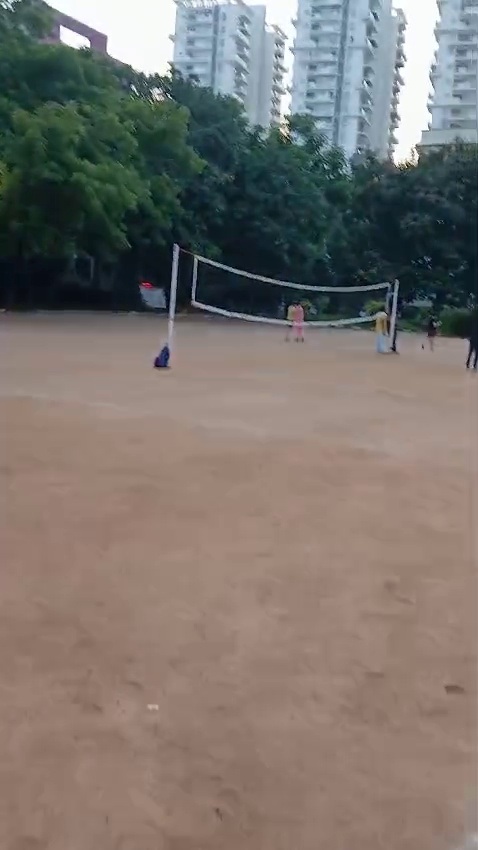bag: (148, 342, 173, 376)
